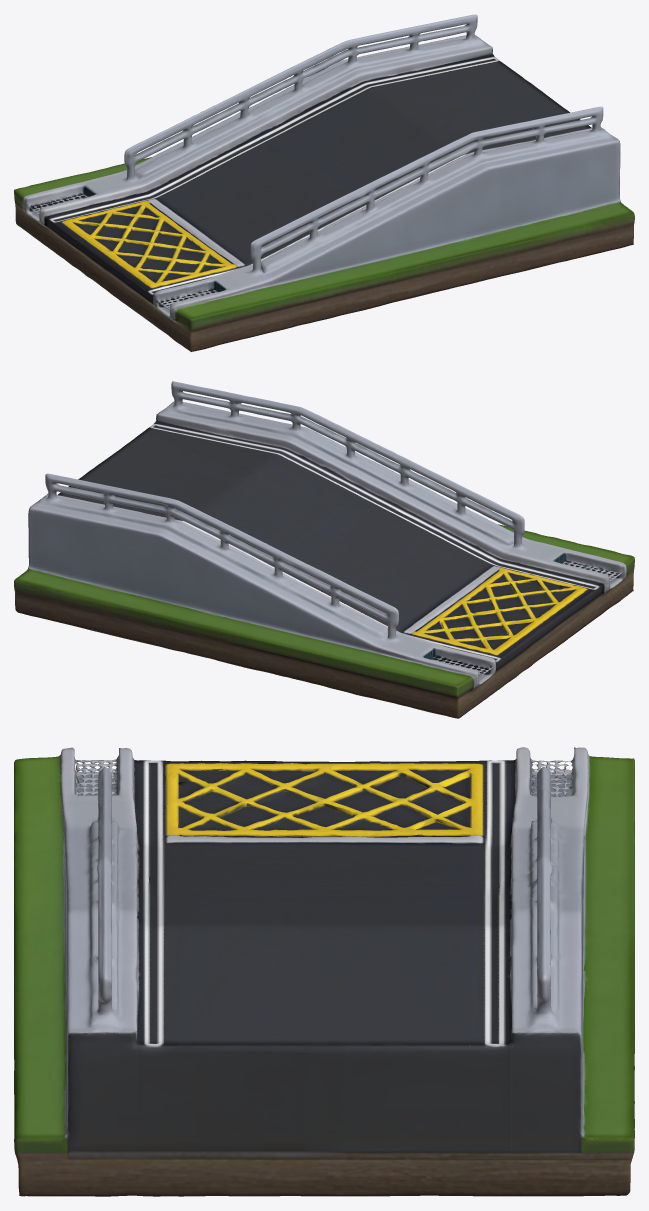
The model's file is bridge_ramp_3d_model.fbx.
The picture shows the model from 3 angles, top to bottom: view 1: azimuth 30°, elevation 25°; view 2: azimuth 150°, elevation 25°; view 3: azimuth 270°, elevation 25°; orthographic projection. The views are drawn at different scales.
Parts seen in each view (by area): view 1: tripo_node_4dd98128; view 2: tripo_node_4dd98128; view 3: tripo_node_4dd98128.
Part boxes in pixels (x1=…): tripo_node_4dd98128: x1=14, y1=14, x2=634, y2=351; tripo_node_4dd98128: x1=14, y1=381, x2=634, y2=718; tripo_node_4dd98128: x1=14, y1=747, x2=634, y2=1196.
Size of the model in its own units: 0.9781 by 0.2659 by 0.6689.
